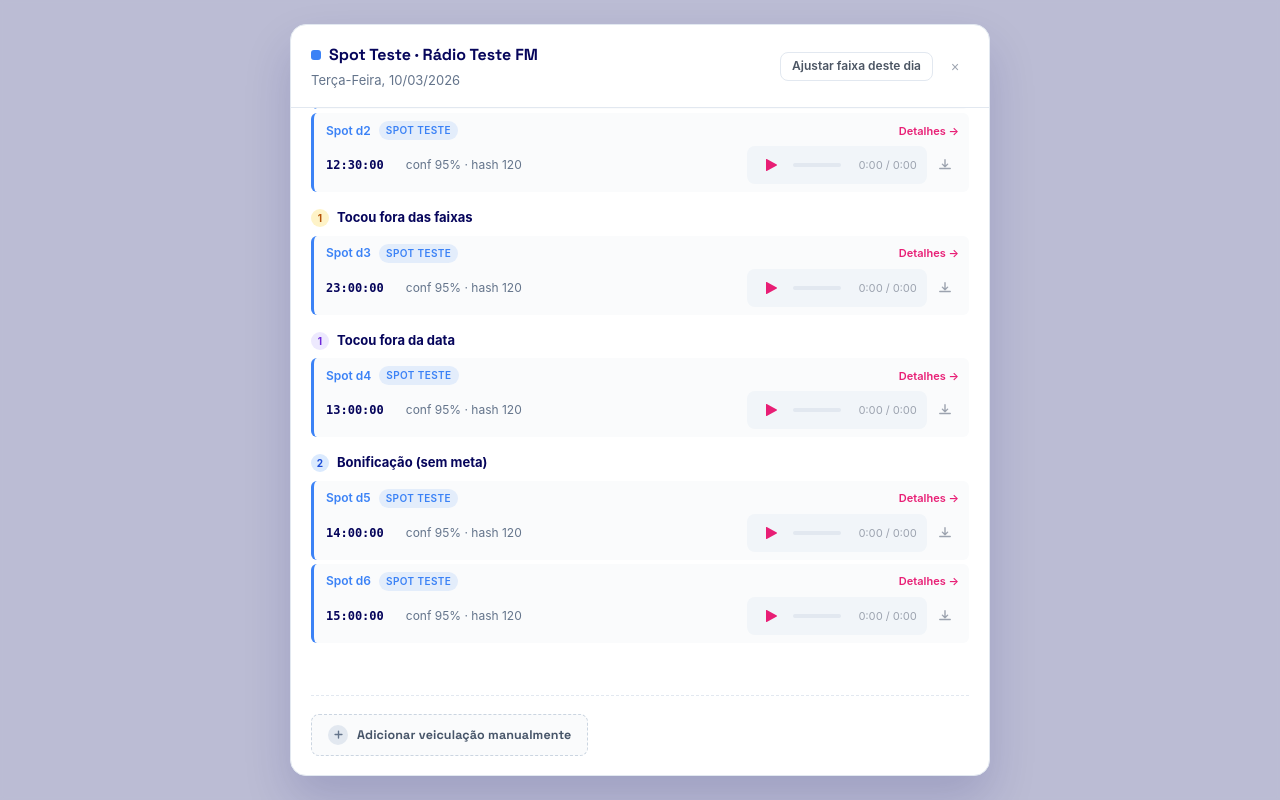
Test: DayDetailModal — inserção manual em lote (admin) › adicionar e remover linhas ajusta o contador do botão Salvar
(page scrolled)
Click the button "Adicionar veiculação manualmente" at x=450, y=735, box [311,714,588,756]
(page scrolled)
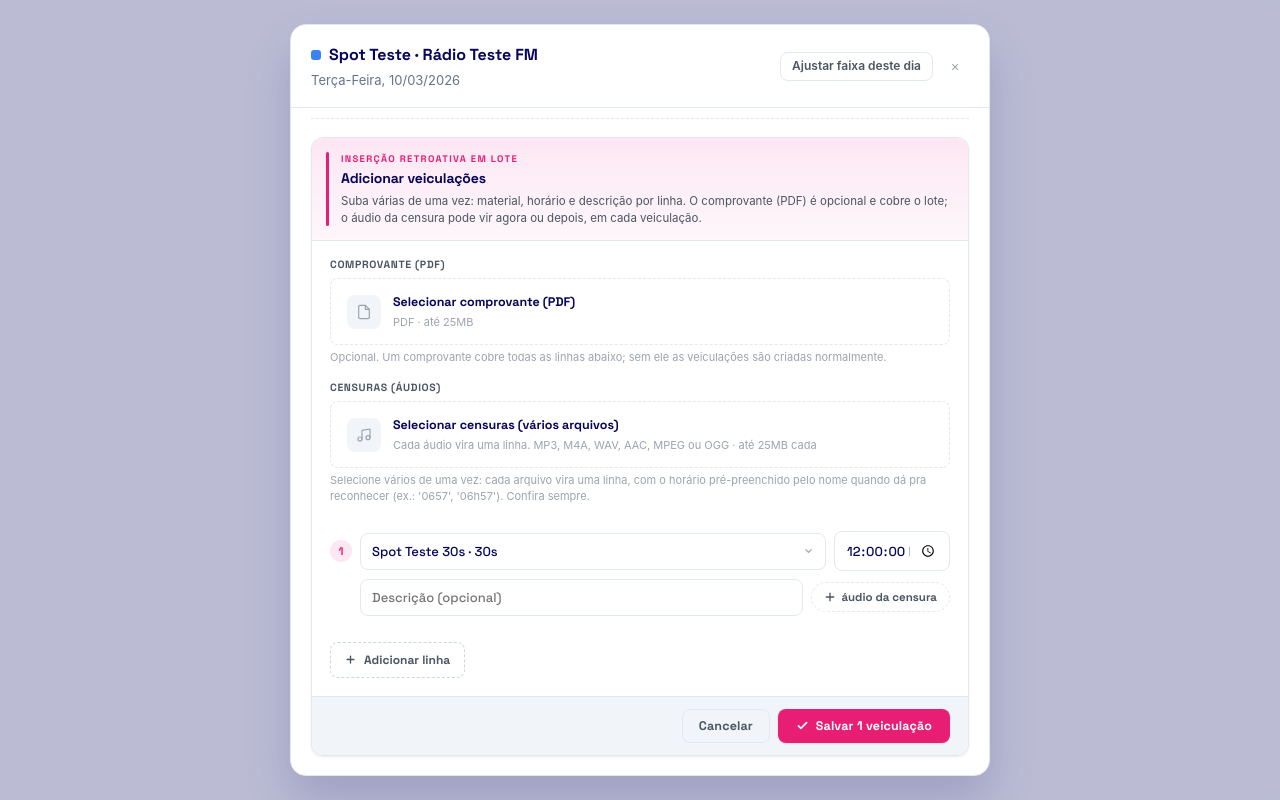
Result: the text "Adicionar veiculações" is shown at [341,169,486,187]
Click the button "Adicionar linha" at x=398, y=660, box [330,642,465,678]
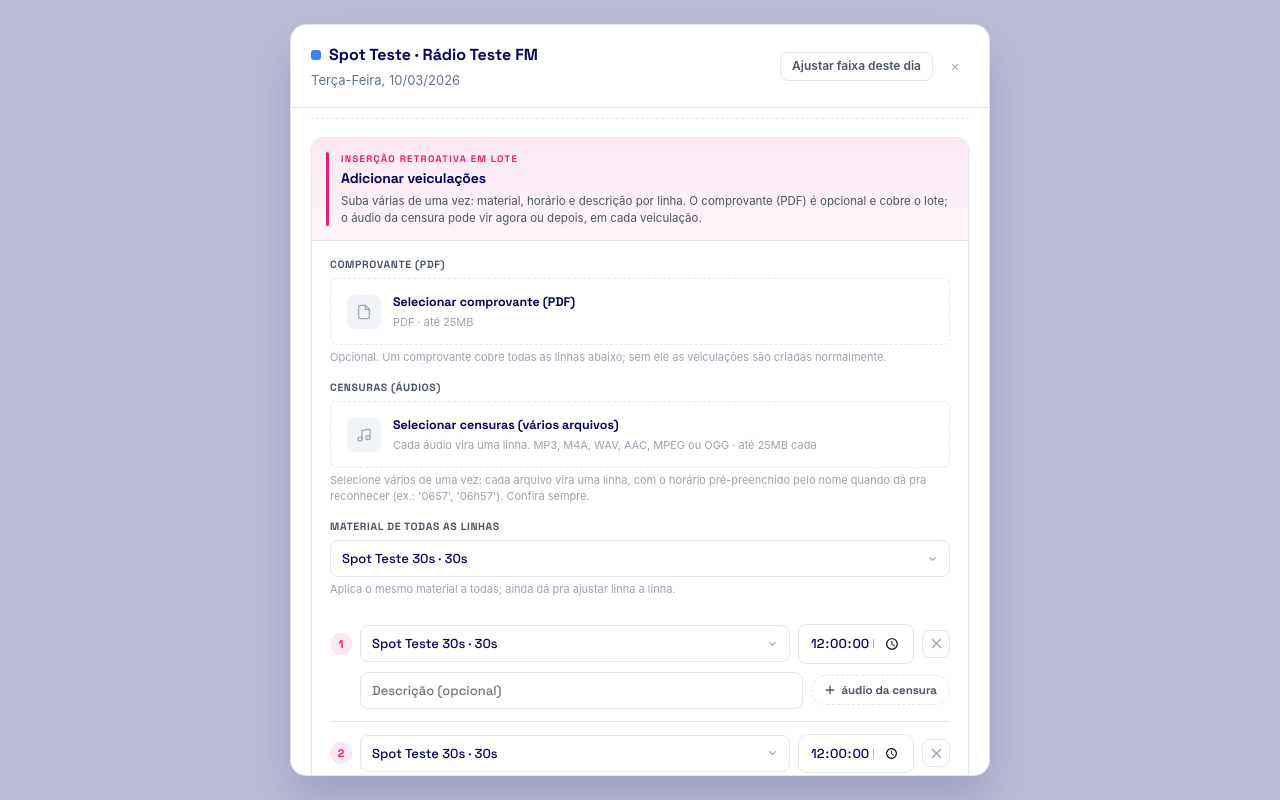
Click the button named "Remover linha 2" at x=936, y=753, box [922,739,950,767]
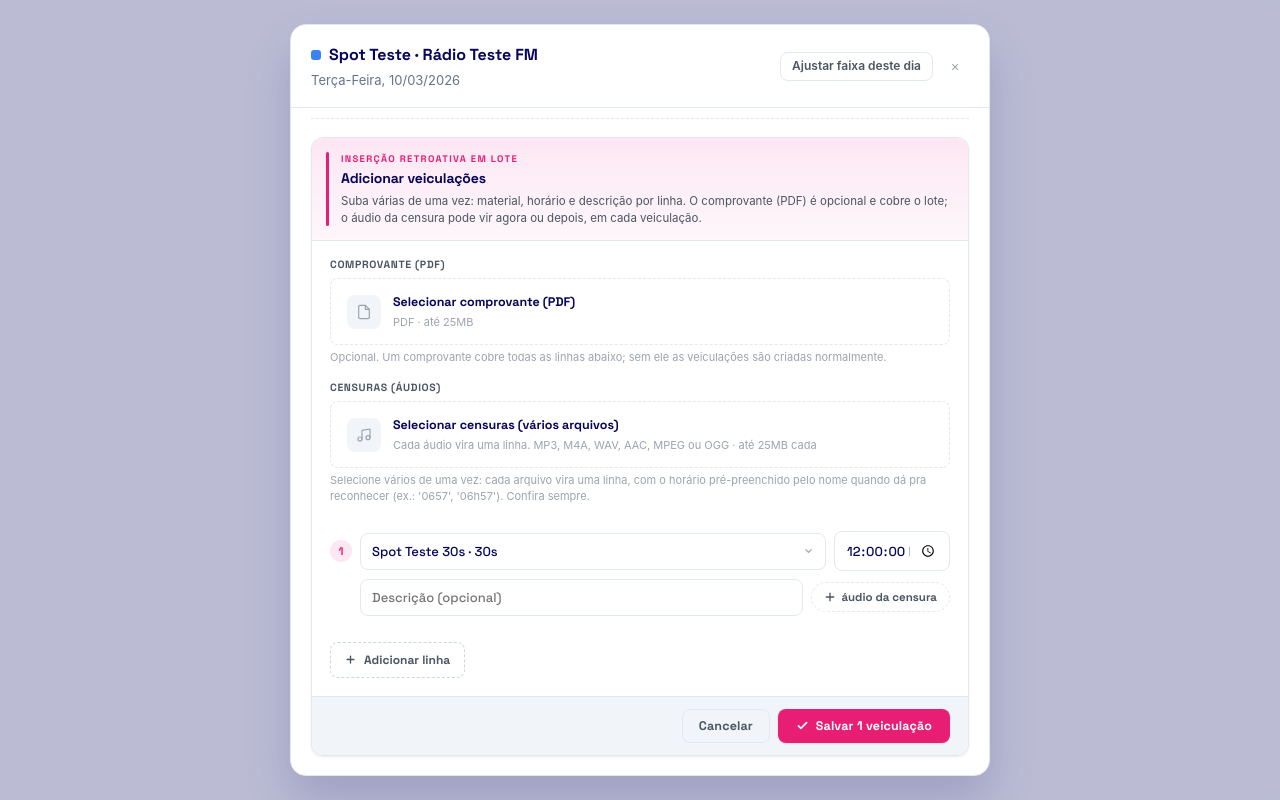
Result: the button "Salvar 1 veiculação" is shown at [778,709,950,743]
